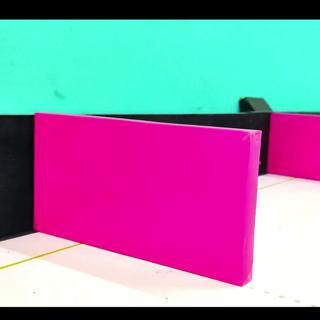xparking: (60, 135, 251, 271), (277, 123, 316, 178)
